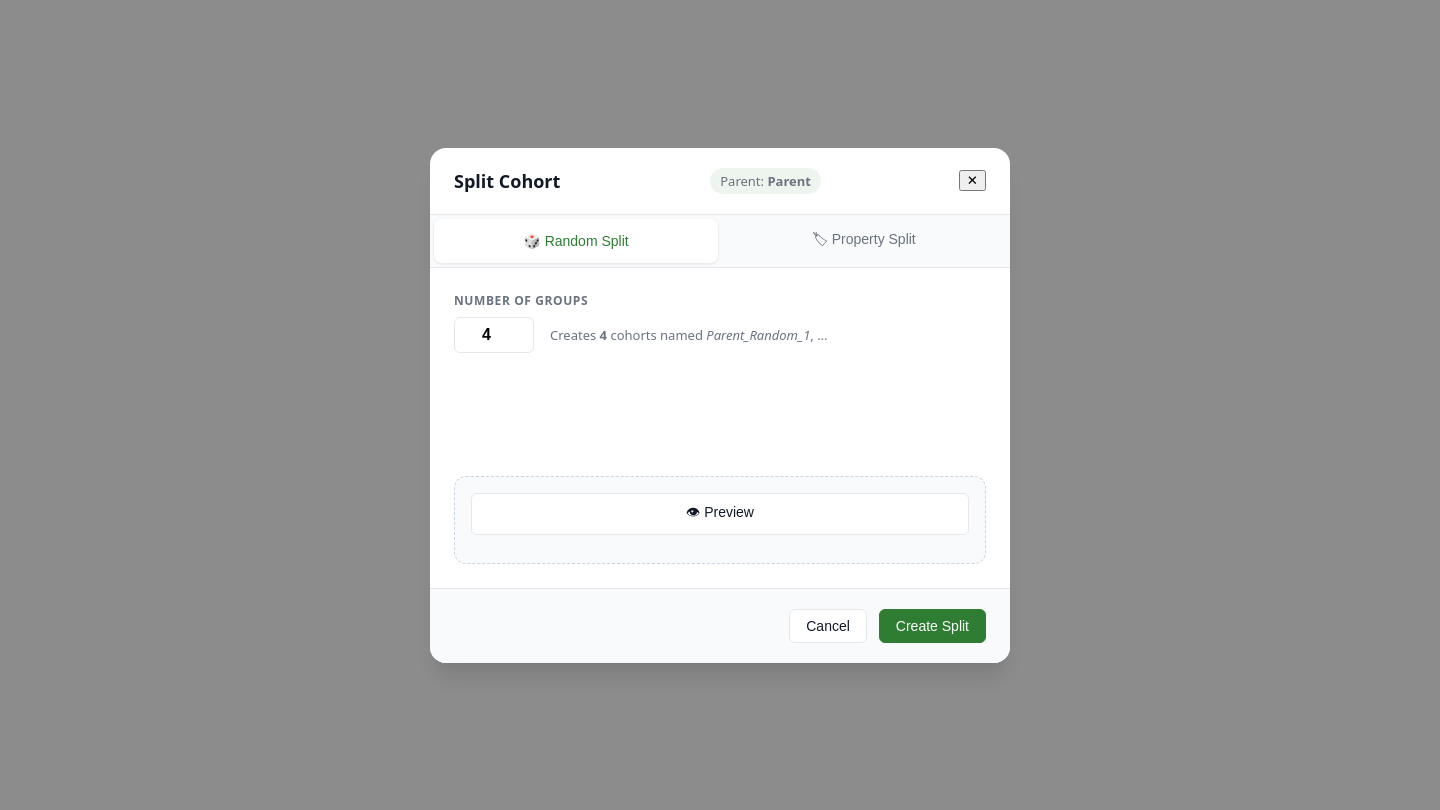
Test case: CohortSplitModal Property Tab › updates values when column changes
Click the button "🏷 Property Split" at (864, 240), box top-left (722, 218), bottom-right (1006, 262)
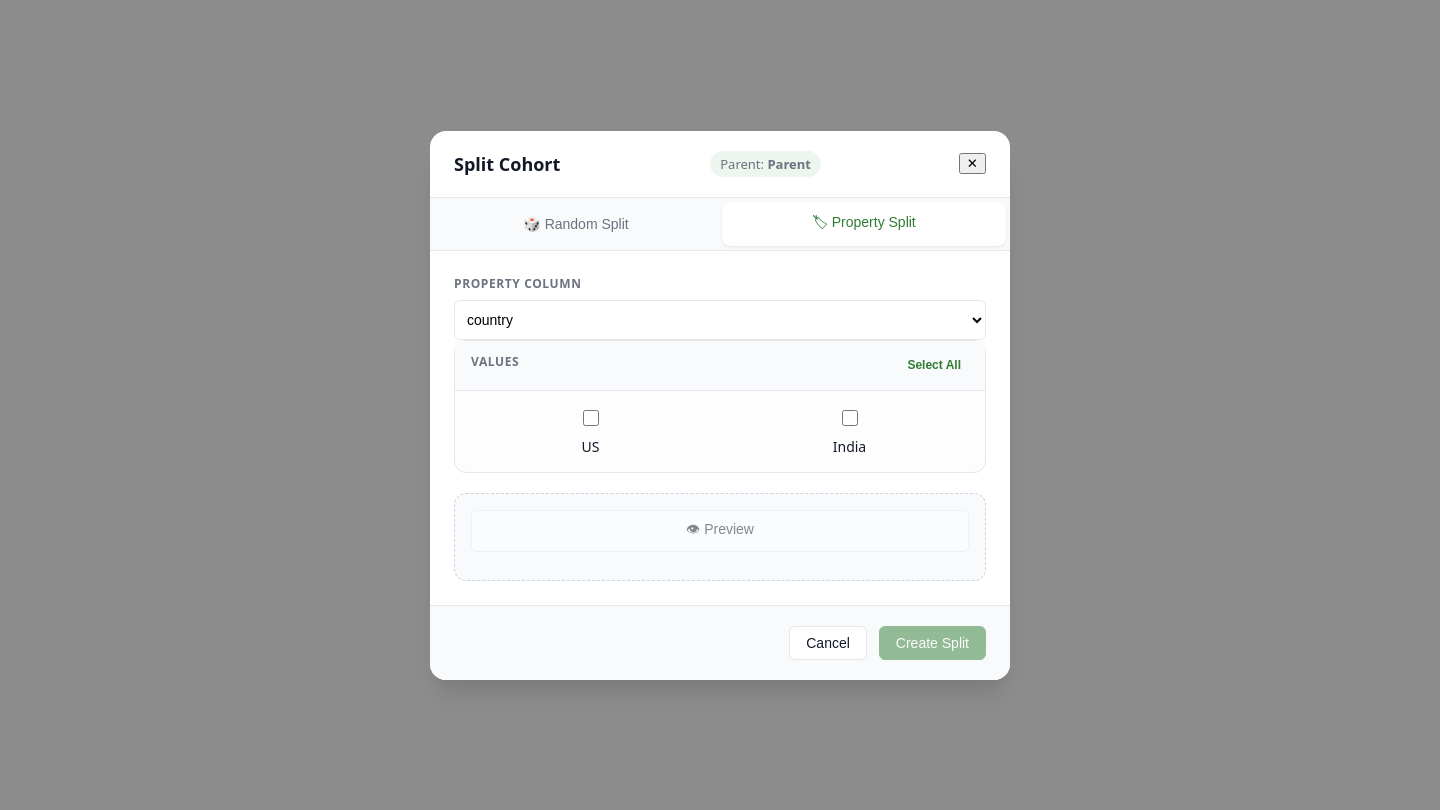
Select "channel" in the dropdown labelled "Property column" at (720, 320), box top-left (454, 300), bottom-right (986, 340)
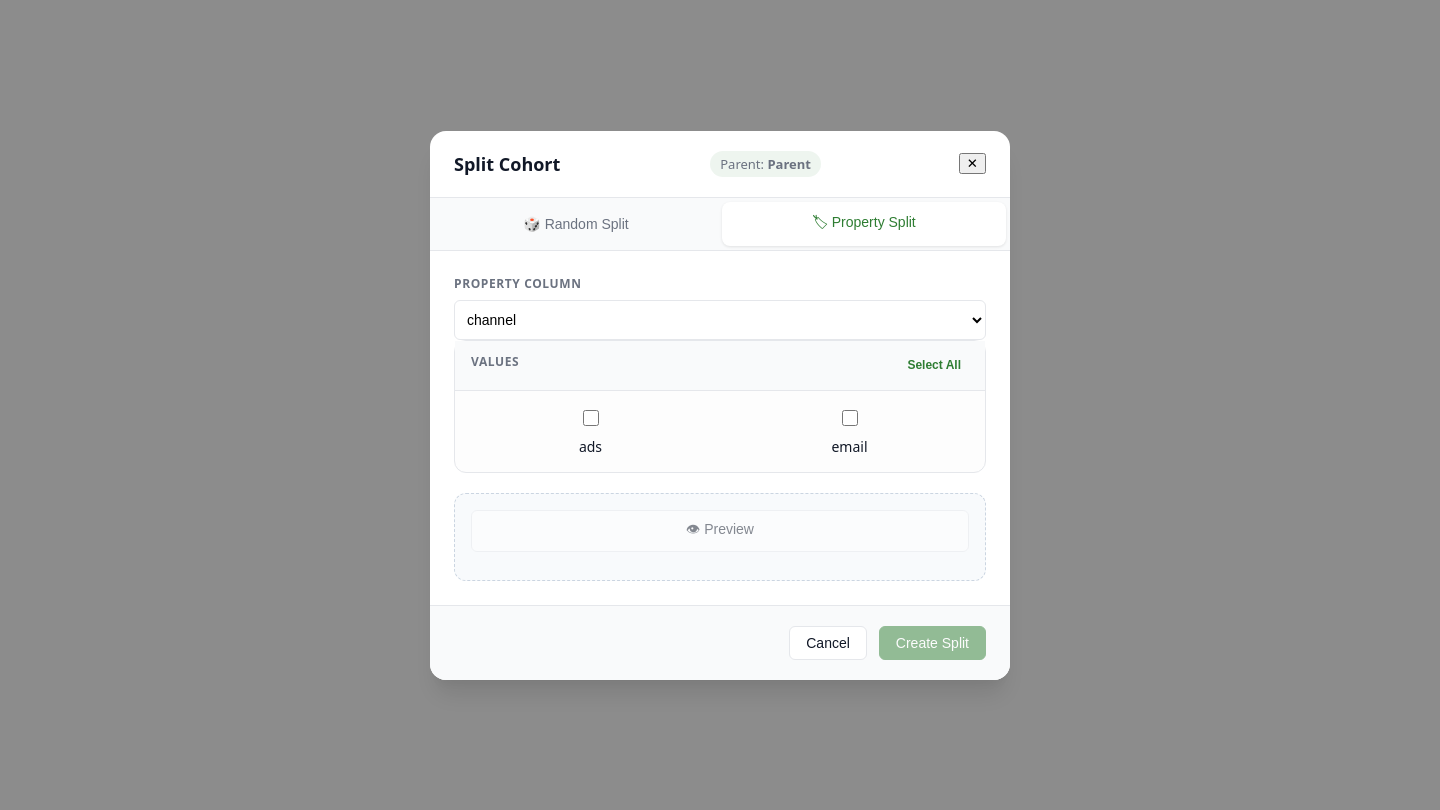
Result: the text "ads" is shown at top-left (579, 436), bottom-right (602, 456)
Result: the text "US" is gone
